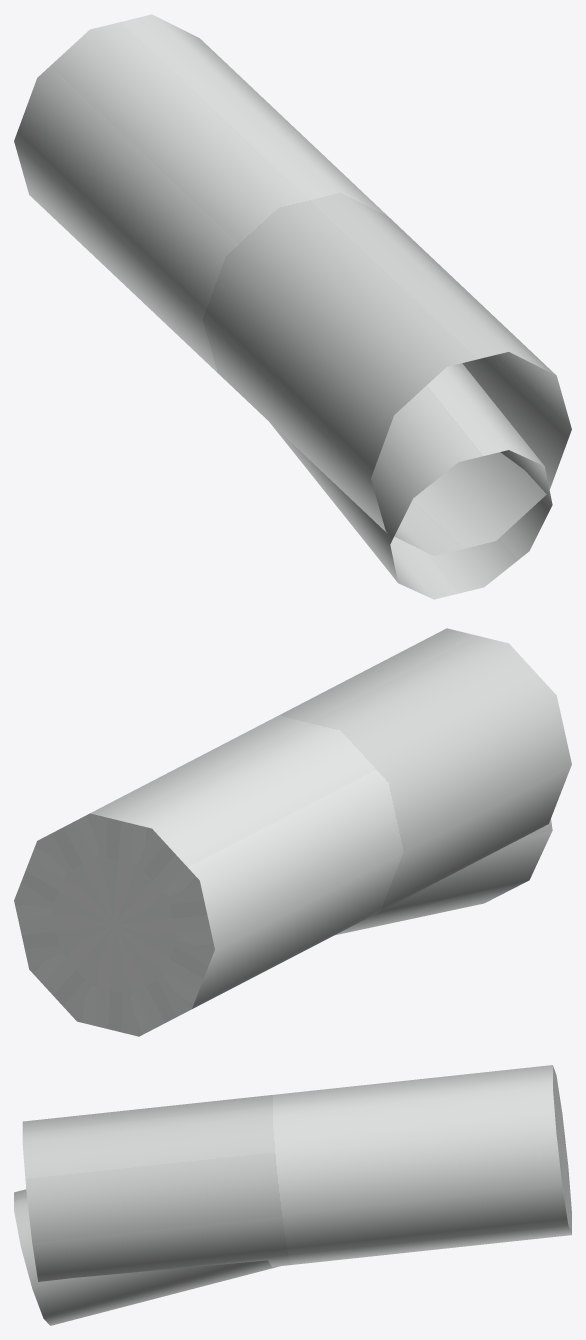
The model's file is trusssignalarm_sloped8_c13.obj.
3 views of the same model, one above another, from view 1: azimuth 30°, elevation 25°; view 2: azimuth 150°, elevation 25°; view 3: azimuth 270°, elevation 25° (orthographic). The views are drawn at different scales.
Visible parts, largest first — view 1: trusssignalarm_sloped8_c13; view 2: trusssignalarm_sloped8_c13; view 3: trusssignalarm_sloped8_c13.
Boxes of the visible parts, bbox=[...] form: trusssignalarm_sloped8_c13: bbox=[14, 14, 571, 599]; trusssignalarm_sloped8_c13: bbox=[14, 628, 571, 1036]; trusssignalarm_sloped8_c13: bbox=[14, 1065, 571, 1325].
Bounding box in the file's own units: 0.325 × 0.5004 × 1.05.
